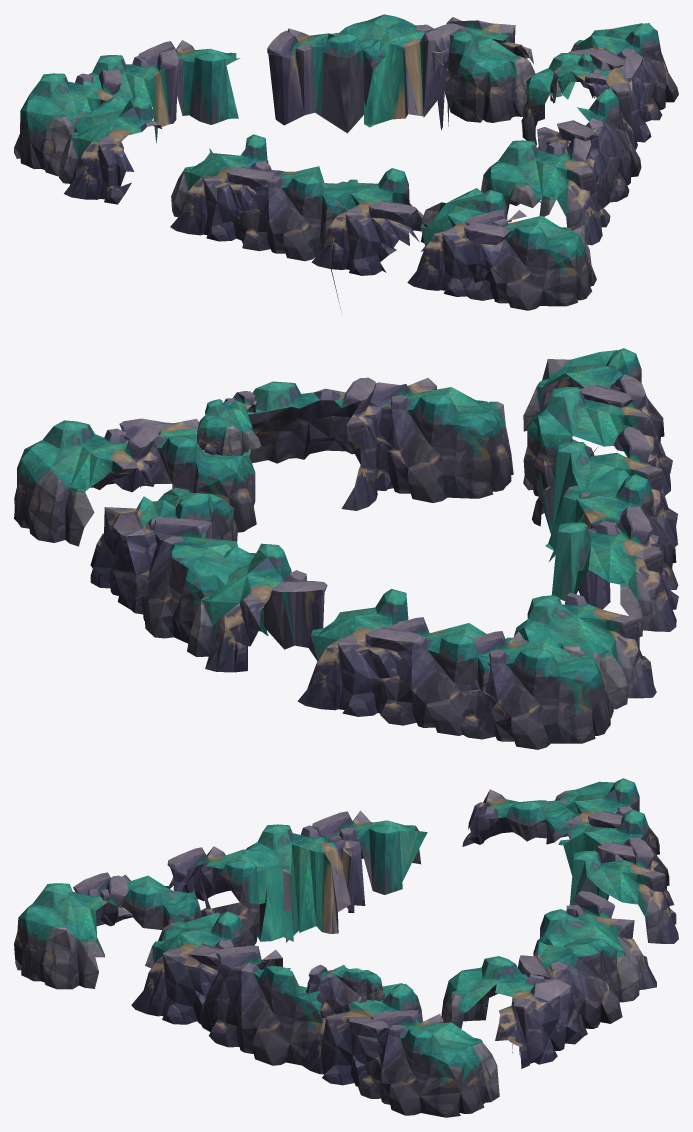
Rendered from yanshi_13_1.FBX.
3 views of the same model, one above another, from view 1: azimuth 30°, elevation 25°; view 2: azimuth 150°, elevation 25°; view 3: azimuth 270°, elevation 25° (orthographic). The views are drawn at different scales.
Parts seen in each view (by area): view 1: yanshi_13_1; view 2: yanshi_13_1; view 3: yanshi_13_1.
Part boxes in pixels (left/top/right/bottom): yanshi_13_1: left=14, top=14, right=678, bottom=310; yanshi_13_1: left=14, top=348, right=678, bottom=749; yanshi_13_1: left=14, top=778, right=678, bottom=1117.
Bounding box in the file's own units: 6559 × 1636 × 6444.
